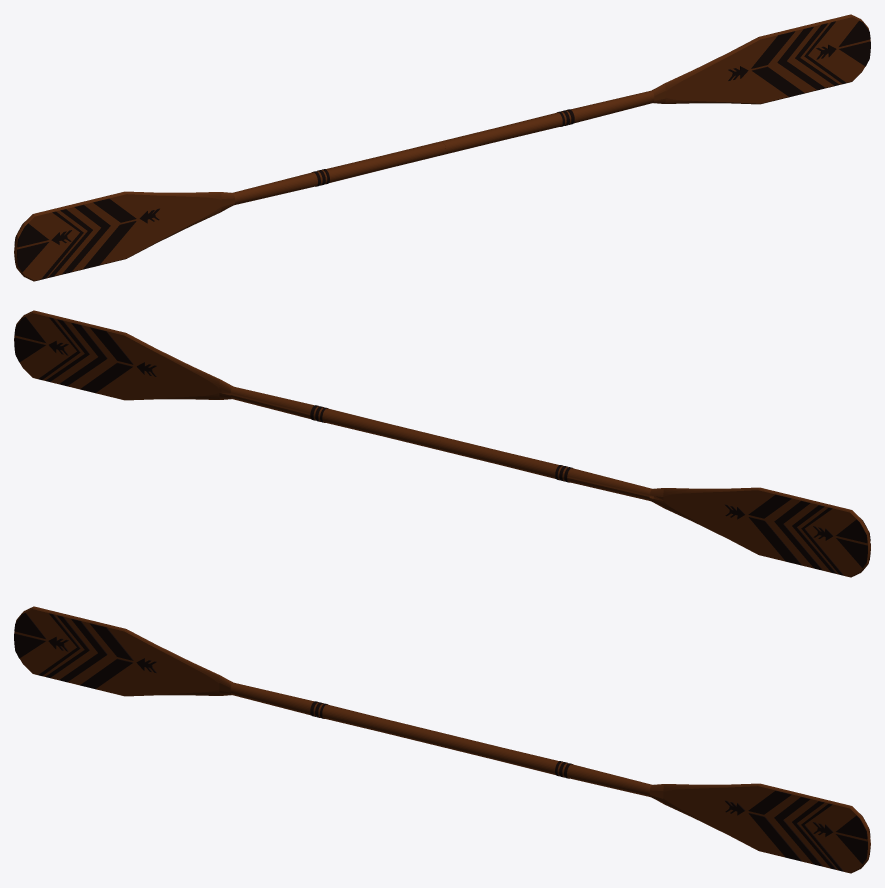
File: KayakVeslo.fbx
3 views of the same model, one above another, from view 1: azimuth 30°, elevation 25°; view 2: azimuth 150°, elevation 25°; view 3: azimuth 330°, elevation 25° (orthographic).
Visible parts, largest first — view 1: Cylinder, Cylinder.014; view 2: Cylinder, Cylinder.014; view 3: Cylinder, Cylinder.014.
Boxes of the visible parts, <box> form: Cylinder: <box>14,14,870,281</box>; Cylinder.014: <box>14,20,870,279</box>; Cylinder: <box>14,310,870,577</box>; Cylinder.014: <box>14,316,870,575</box>; Cylinder: <box>14,606,870,873</box>; Cylinder.014: <box>14,612,870,871</box>.
Bounding box in the file's own units: 339 × 5.25 × 25.53.
